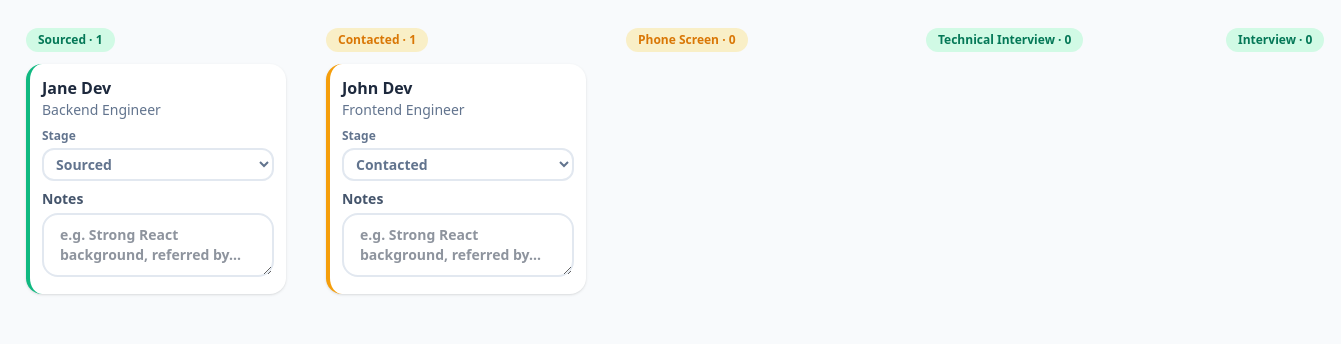
EmployerKanbanBoard › shows an error and reverts the optimistic update when the stage change fails
Select "Contacted" in the dropdown labelled "Stage" below "Sourced". click: [158, 164]
box: 42,148 -> 274,181
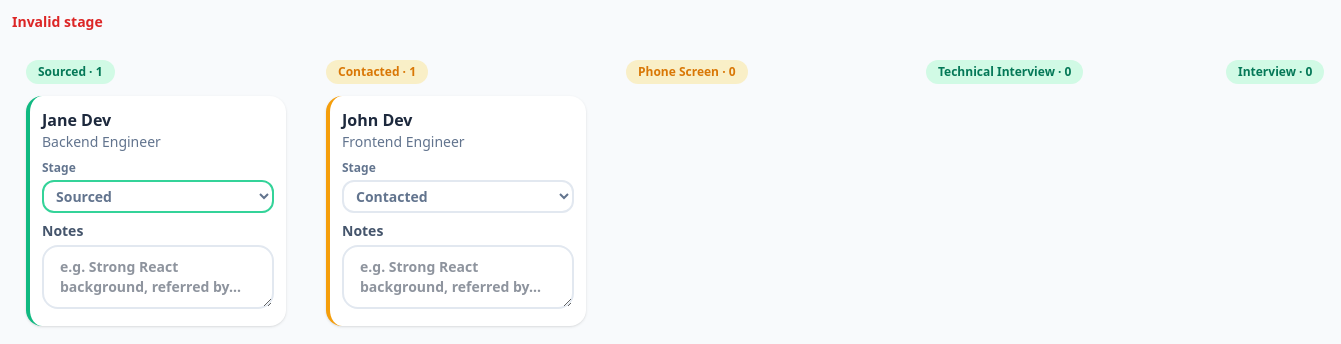
expect the message reads "Invalid stage": met, box 12,12 -> 103,31
